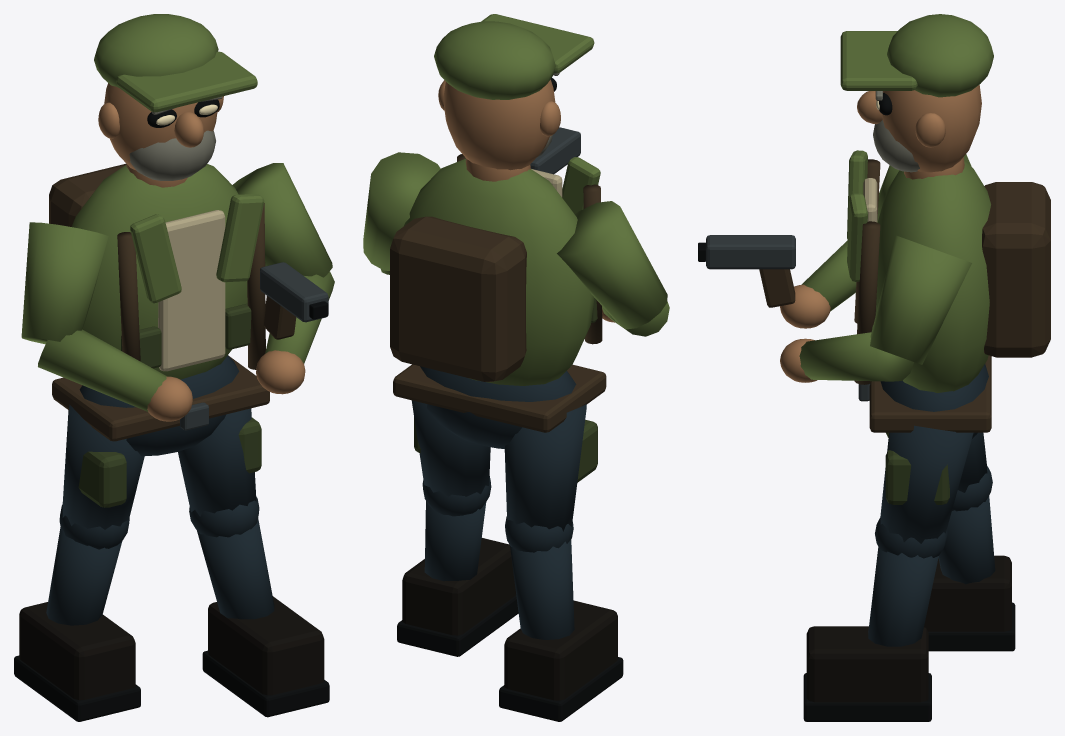
Rendered from survivor_05.glb.
3 renders of one model, left to right at view 1: azimuth 30°, elevation 25°; view 2: azimuth 150°, elevation 25°; view 3: azimuth 270°, elevation 25°, orthographic. The views are drawn at different scales.
Parts seen in each view (by area): view 1: survivor_05; view 2: survivor_05; view 3: survivor_05.
Part boxes in pixels (x1=…): survivor_05: x1=14, y1=14, x2=334, y2=721; survivor_05: x1=363, y1=14, x2=669, y2=721; survivor_05: x1=698, y1=14, x2=1050, y2=721.
Size of the model in its own units: 0.5398 by 1.12 by 0.55.
